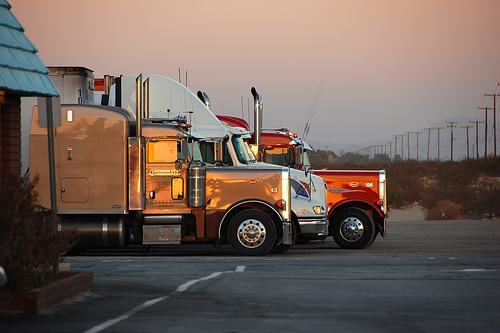truck: (18, 72, 329, 257), (184, 86, 388, 251)
